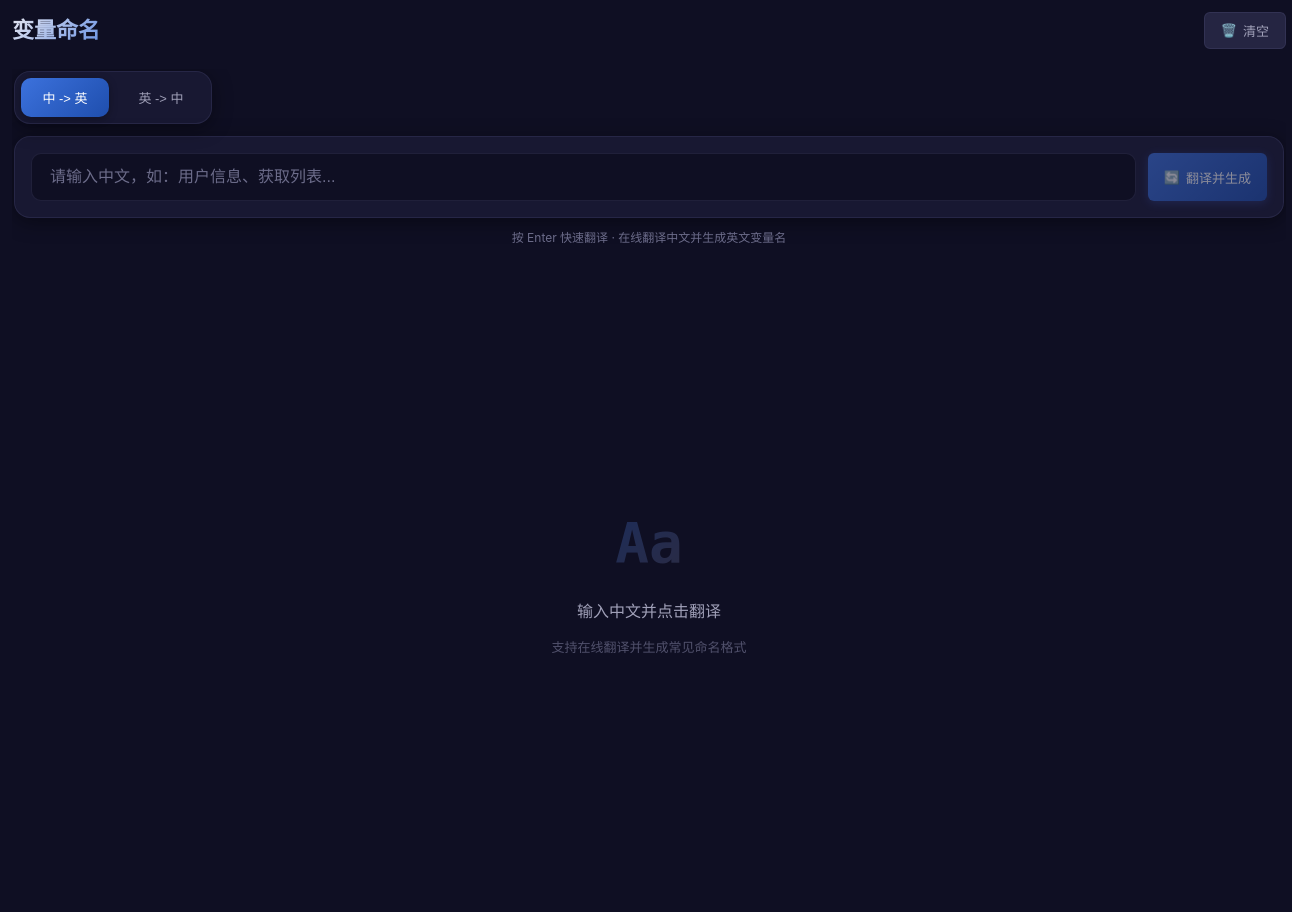
Test: switches ui copy when direction changes to english-to-chinese
What coordinates should you click on to do the following:
click the button "英 -> 中"
I would click on:
 (161, 98)
Its box is [117, 78, 205, 117].
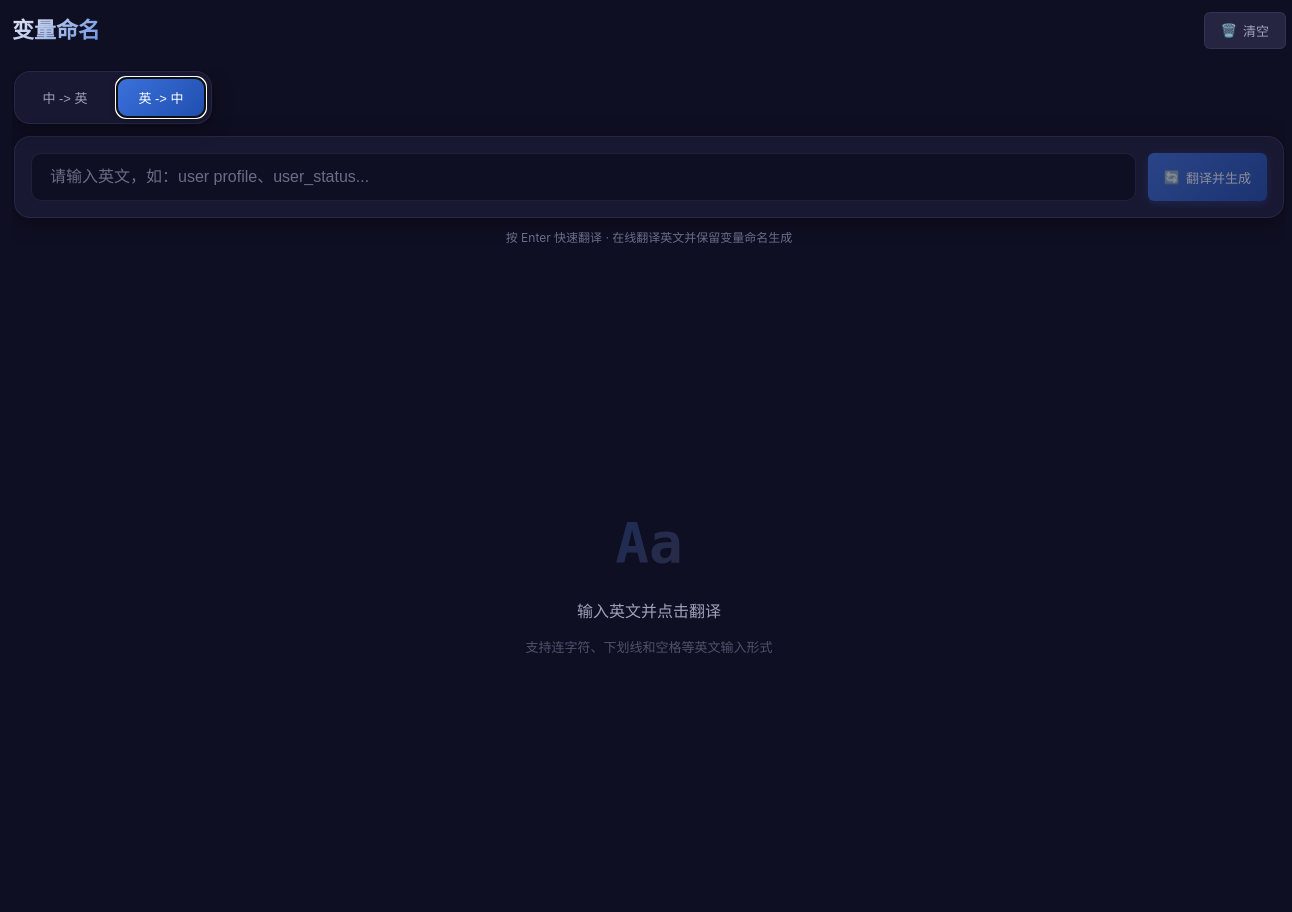
Expected: the button "🔄 翻译并生成" is shown, [1148, 153, 1267, 201]
Result: the field with placeholder "请输入英文，如：user profile、user_status..." is shown at [31, 153, 1136, 201]
